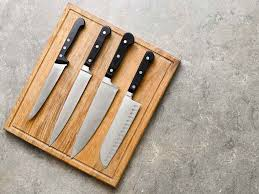kuchillu: (26, 10, 81, 131)
